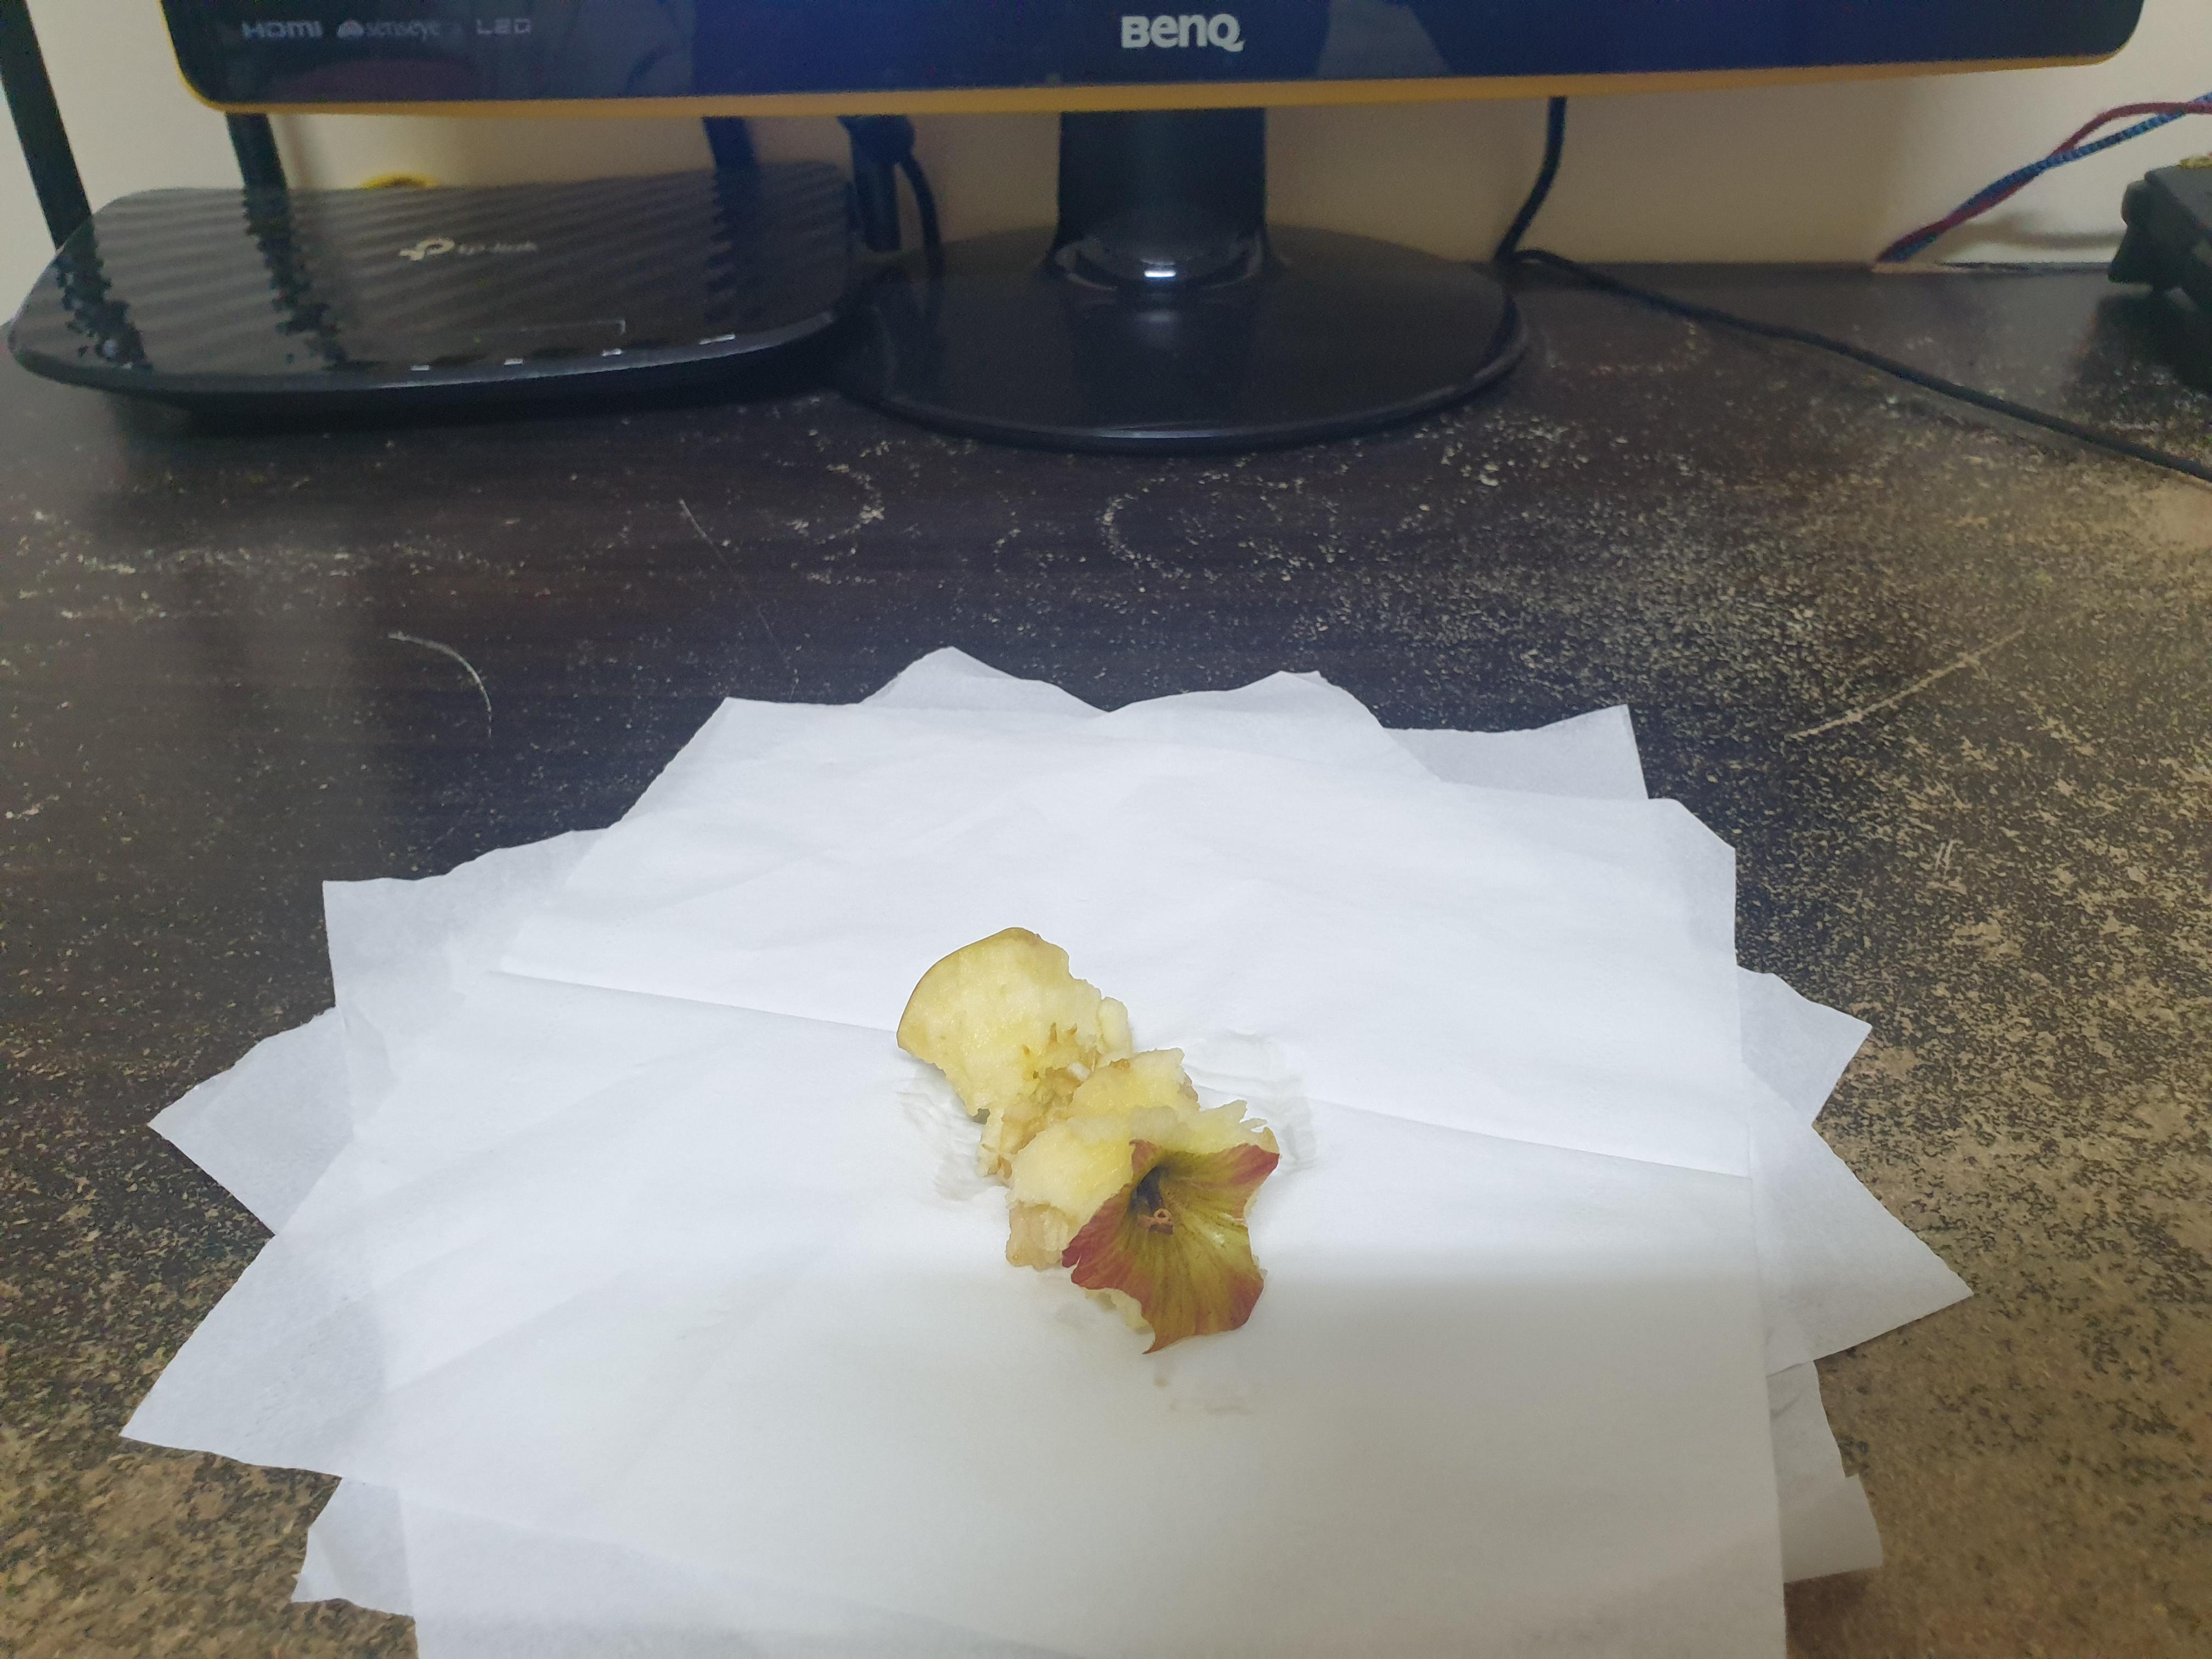Apple: (890, 913, 1287, 1375)
